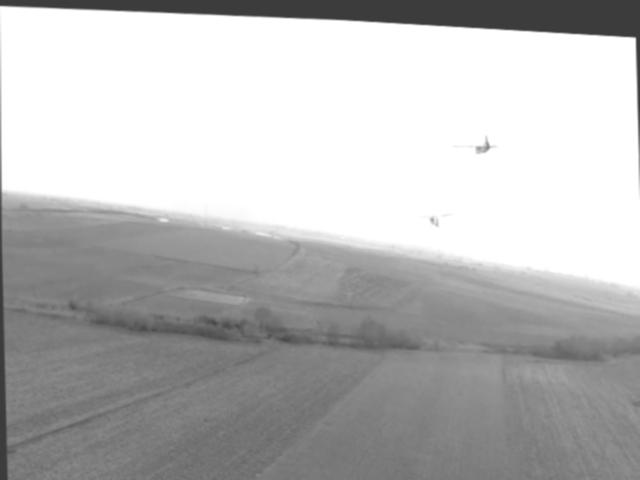hedef: (445, 120, 517, 161), (407, 197, 458, 230)
